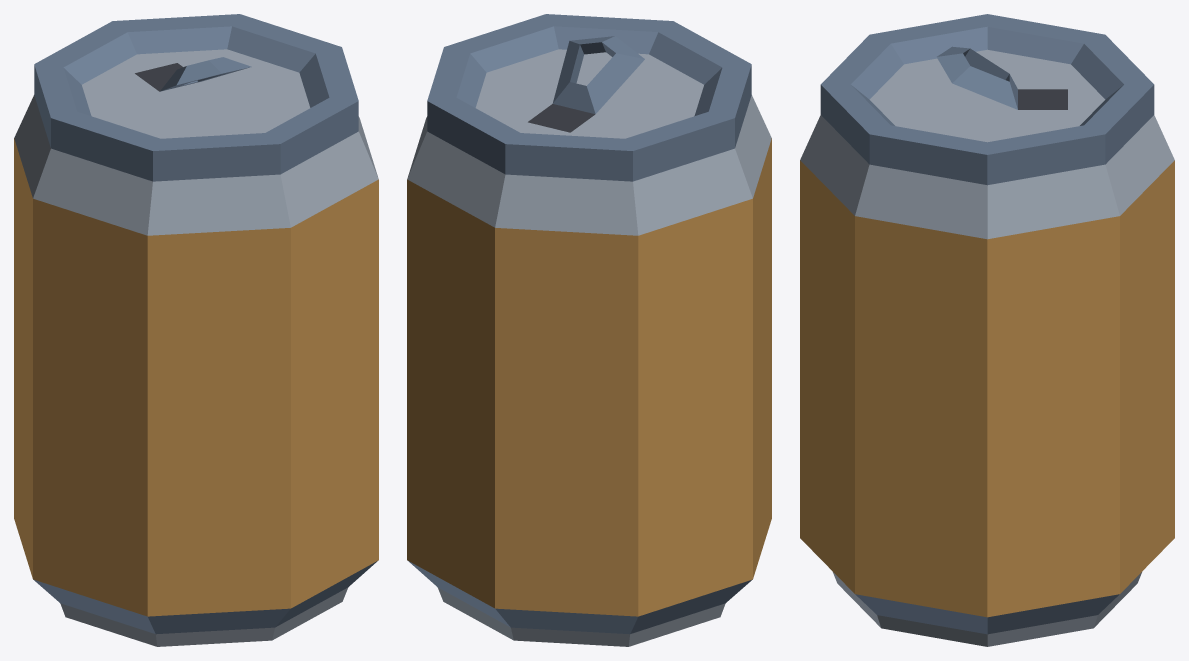
The model's file is can.dae.
3 views of the same model, side by side, from view 1: azimuth 30°, elevation 25°; view 2: azimuth 150°, elevation 25°; view 3: azimuth 270°, elevation 25° (orthographic).
Parts seen in each view (by area): view 1: can; view 2: can; view 3: can.
Boxes of the visible parts, box(x1,y1,x2,y2) form: can: box(14, 14, 378, 646); can: box(407, 14, 771, 646); can: box(800, 14, 1174, 646).
Bounding box in the file's own units: 0.0782 × 0.0782 × 0.122.
